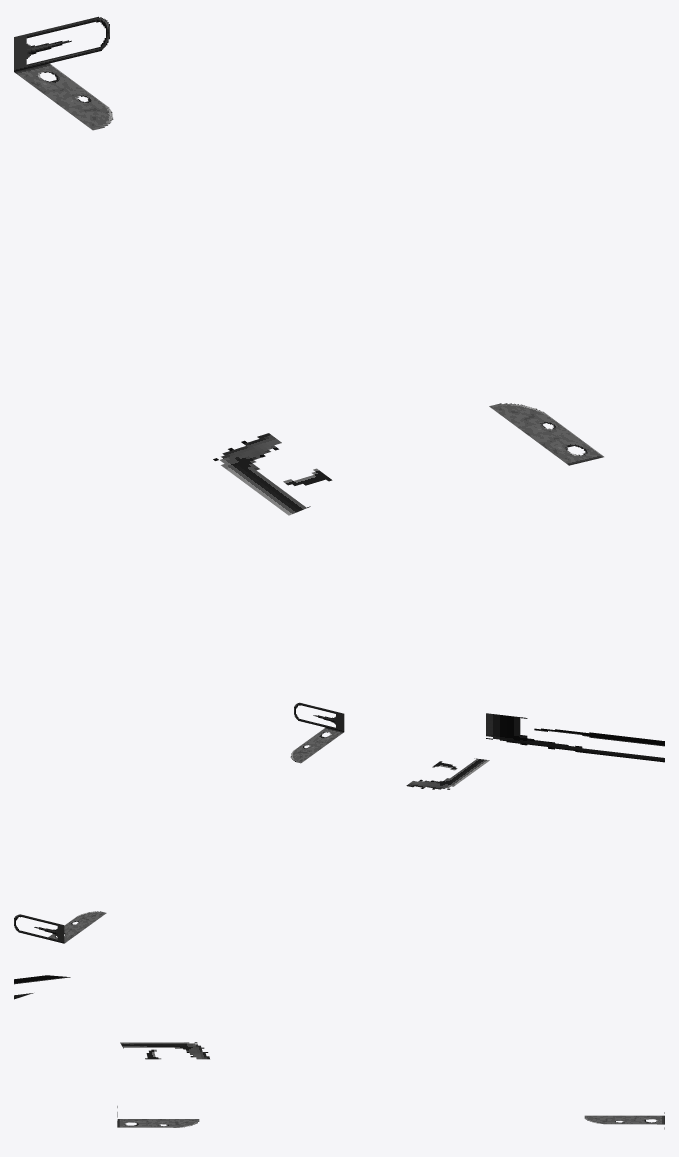
File: secondary_057.glb
3 renders of one model, top to bottom at view 1: azimuth 30°, elevation 25°; view 2: azimuth 150°, elevation 25°; view 3: azimuth 270°, elevation 25°, orthographic. The views are drawn at different scales.
Parts seen in each view (by area): view 1: Object; view 2: Object; view 3: Object.
Part boxes in pixels (bbox=[...]): Object: bbox=[14, 16, 603, 515]; Object: bbox=[14, 702, 664, 943]; Object: bbox=[14, 975, 664, 1129].
Size of the model in its own units: 0.4838 by 0.039 by 0.8514.
4 materials, 4 textured.
